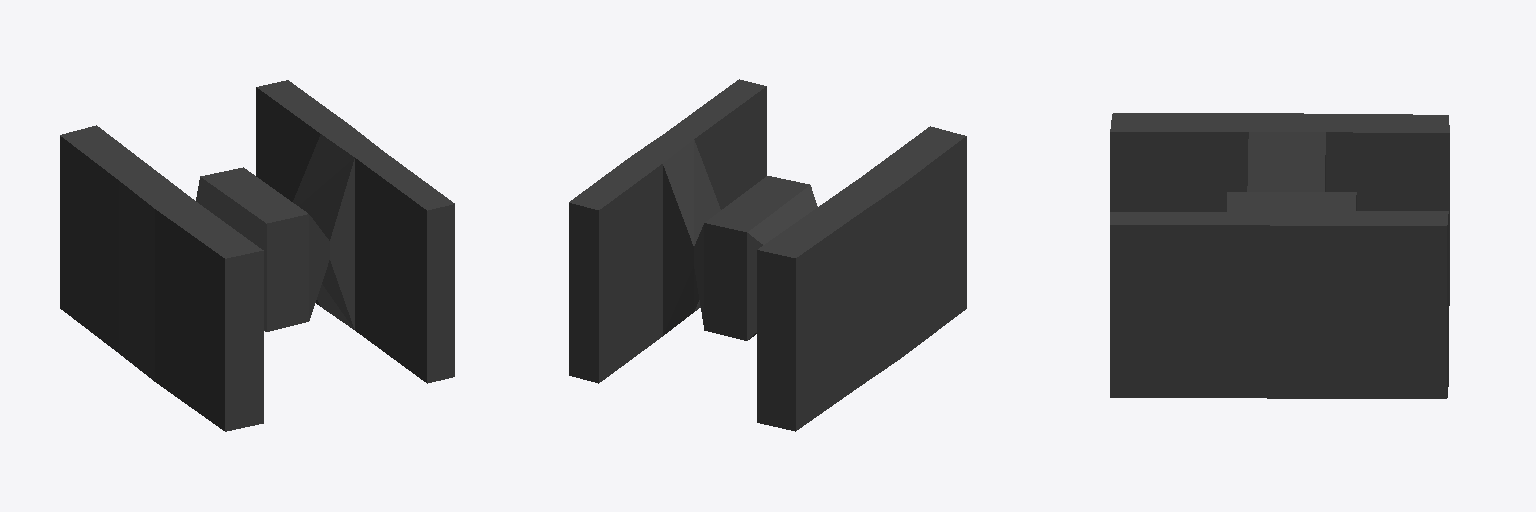
Rendered from myShip.obj.
The picture shows the model from 3 angles: view 1: azimuth 30°, elevation 25°; view 2: azimuth 150°, elevation 25°; view 3: azimuth 270°, elevation 25°; orthographic projection.
Visible parts, largest first — view 1: Plane; view 2: Plane; view 3: Plane.
Boxes of the visible parts, x1,y1,x2,y2 form: Plane: [60, 80, 454, 431]; Plane: [569, 79, 966, 431]; Plane: [1110, 113, 1449, 398].
Bounding box in the file's own units: 4.13 × 2.94 × 5.24.